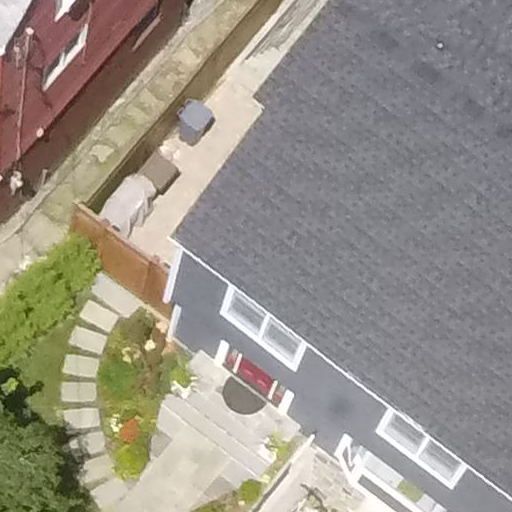trash bin: (164, 98, 221, 148)
